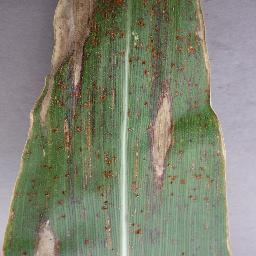Corn_Blight: (3, 100, 118, 256), (185, 0, 234, 169), (43, 0, 125, 98), (146, 73, 178, 181), (129, 0, 179, 67), (179, 170, 233, 209), (129, 77, 144, 181), (124, 184, 151, 238), (221, 209, 237, 256), (155, 182, 174, 210), (169, 241, 201, 255)
